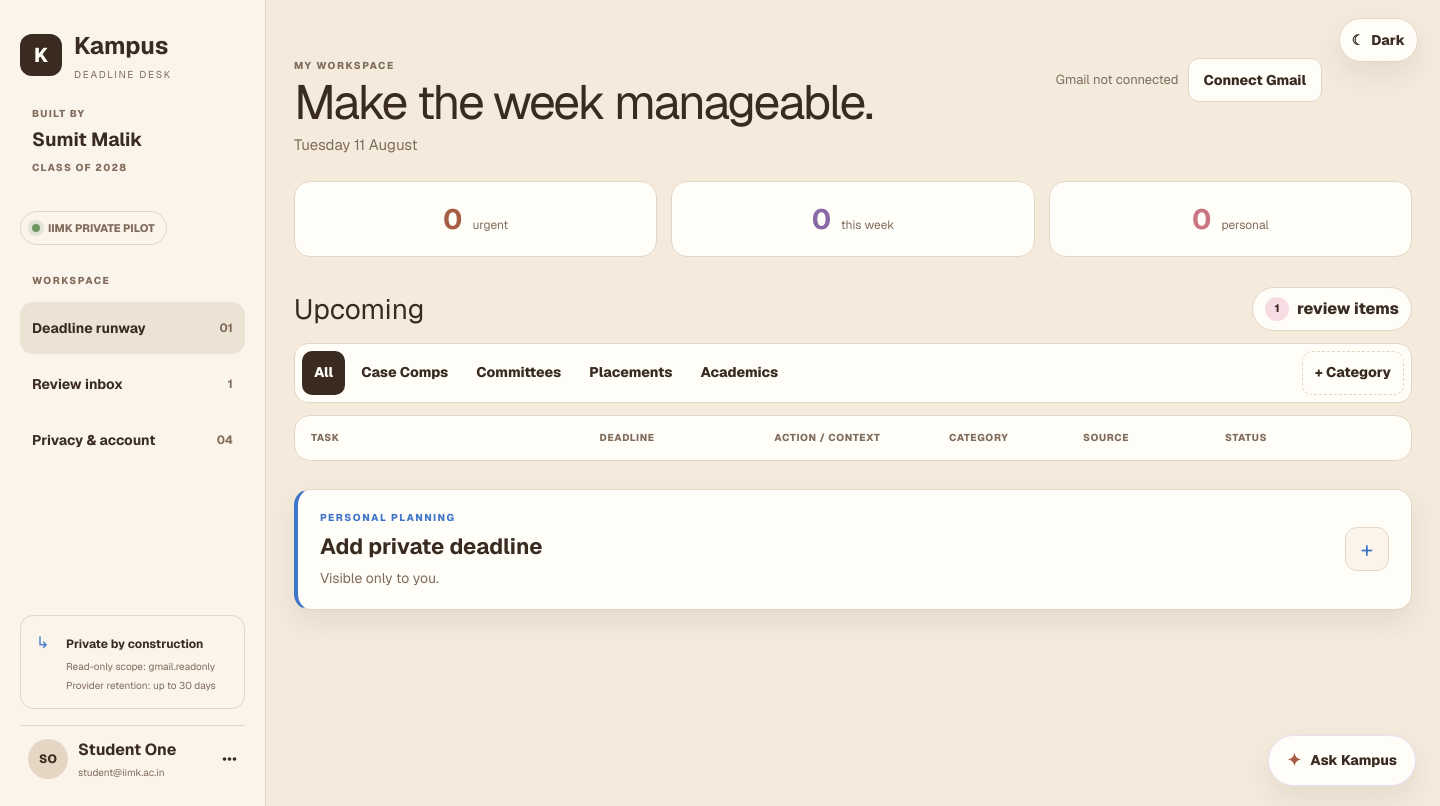
Test case: dashboard local actions › adds an approved review to the dashboard without a reload
The width and height of the screenshot is (1440, 806).
Click the button "Review inbox 1": (132, 384) x1=20 y1=358 x2=245 y2=410
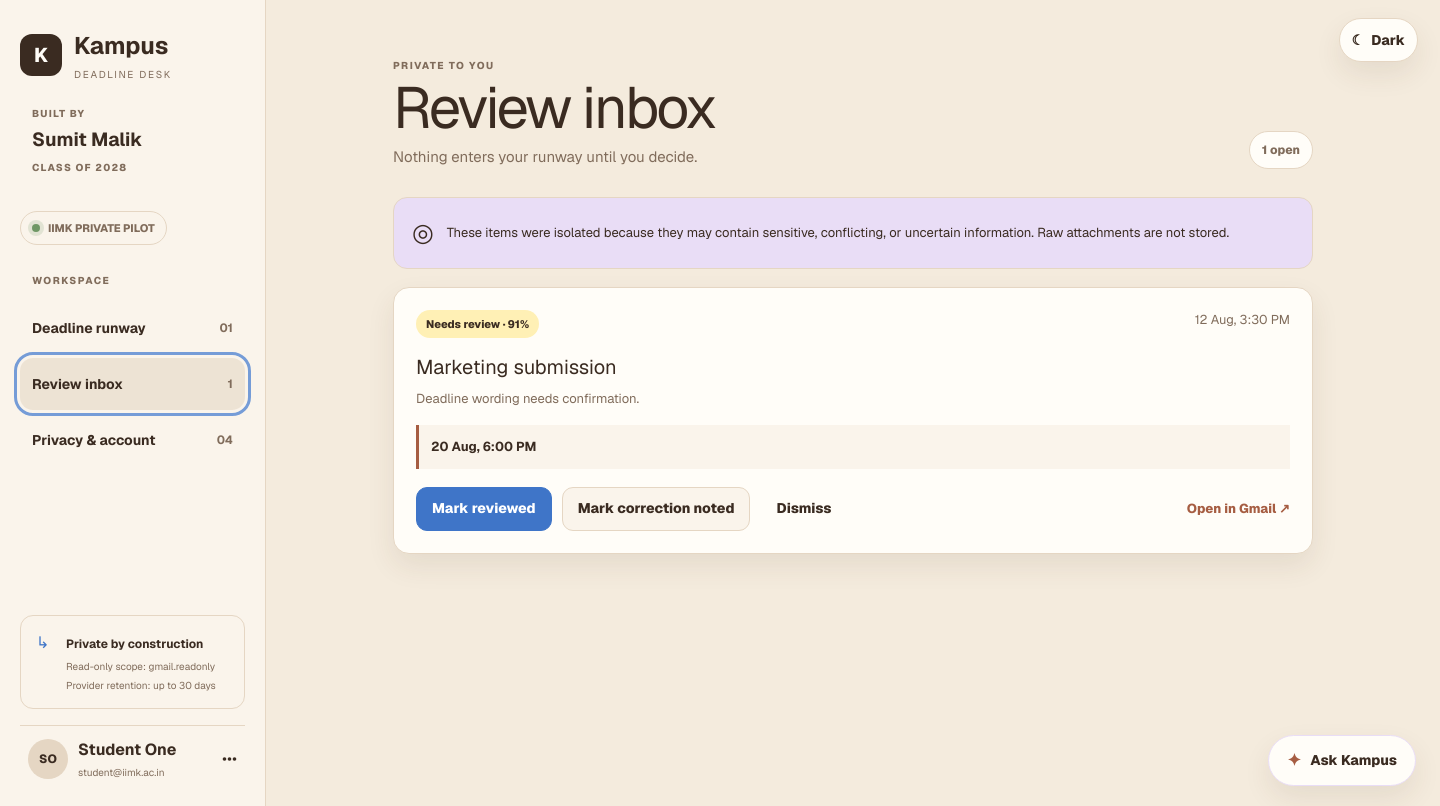
Click the button "Mark reviewed": (484, 509) x1=416 y1=487 x2=552 y2=531
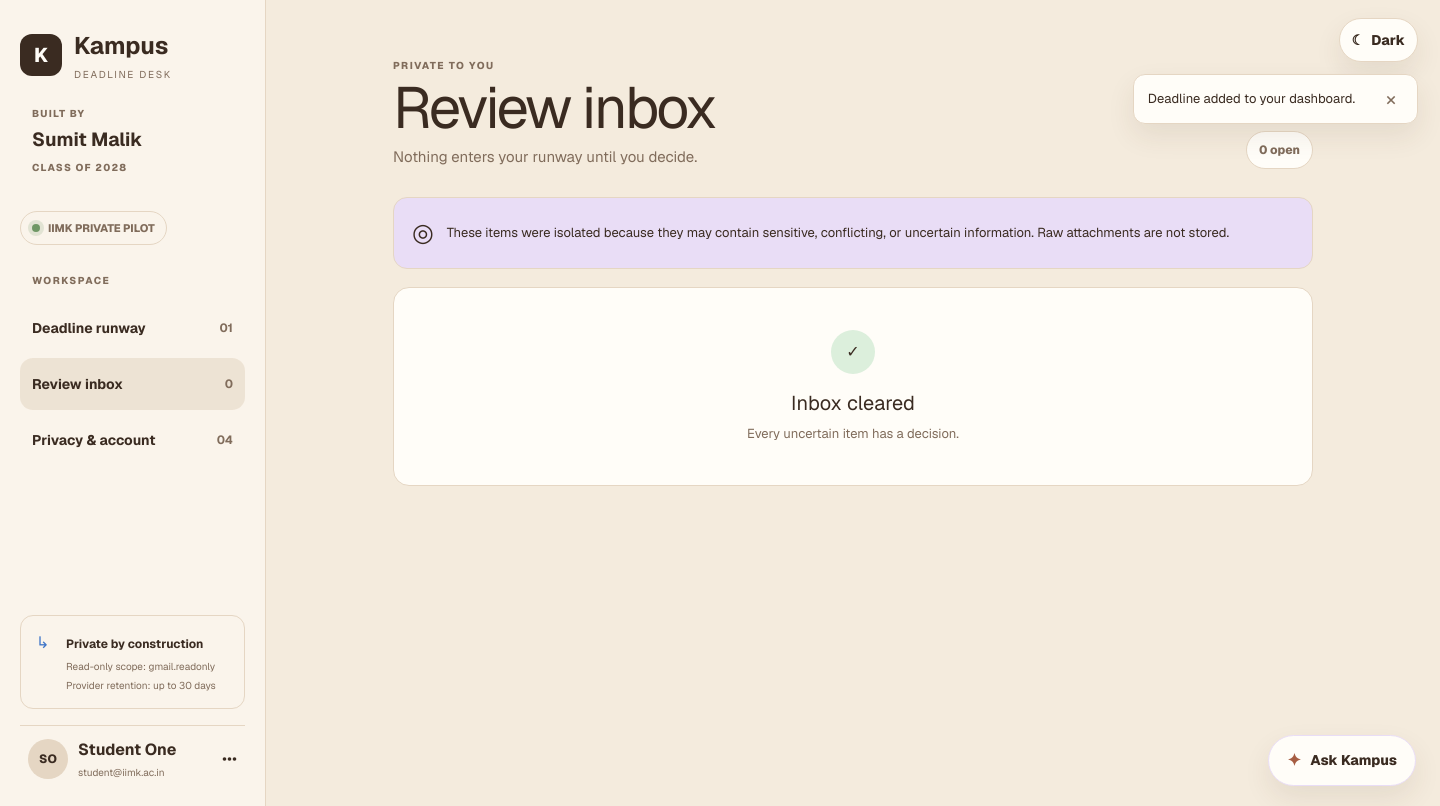
Check: the heading "Marketing submission" is gone
Check: the message shows "added to your dashboard", box x1=1148 y1=90 x2=1355 y2=107
Click the button "Deadline runway 01": (132, 328) x1=20 y1=302 x2=245 y2=354
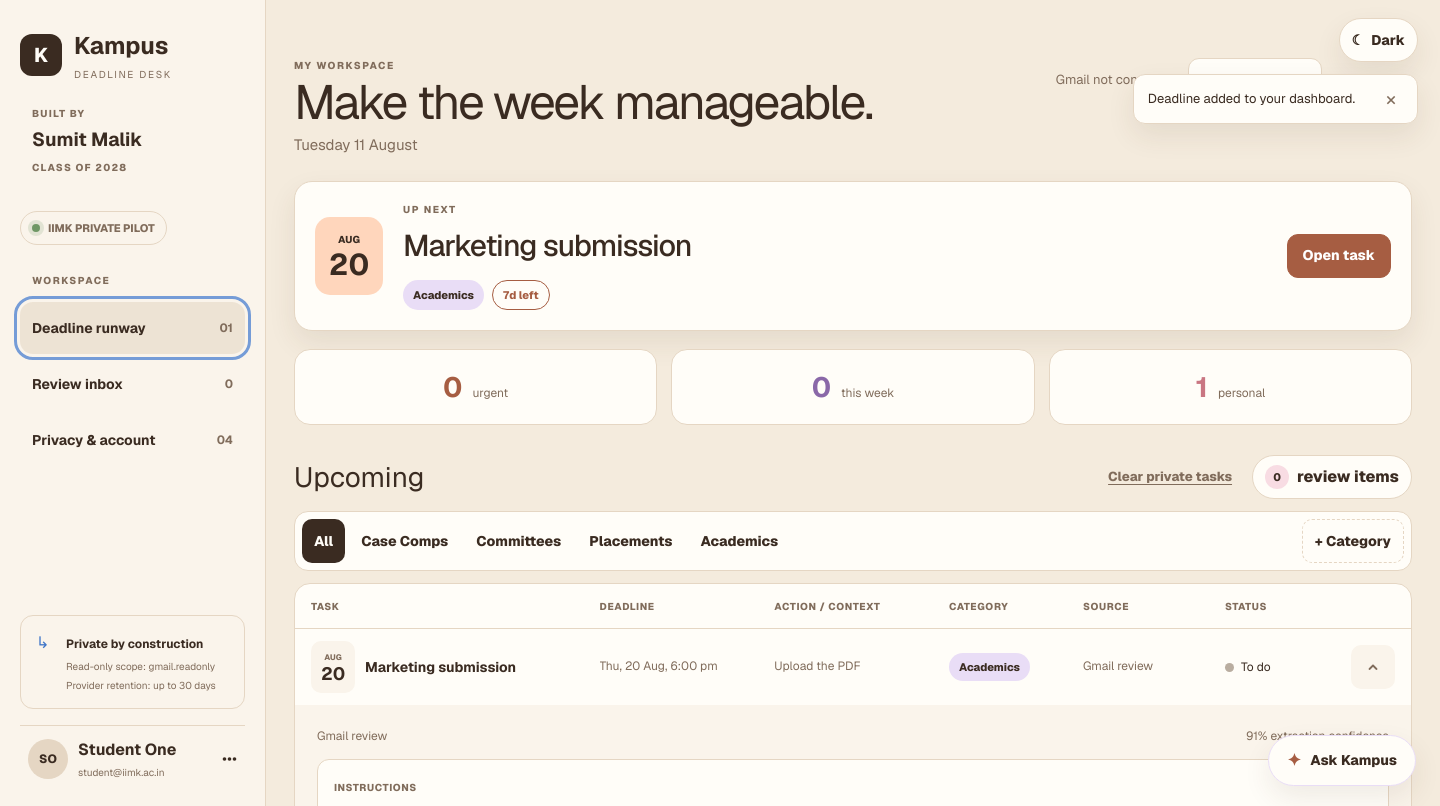
Check: the heading "Marketing submission" is shown, box x1=403 y1=226 x2=692 y2=264
